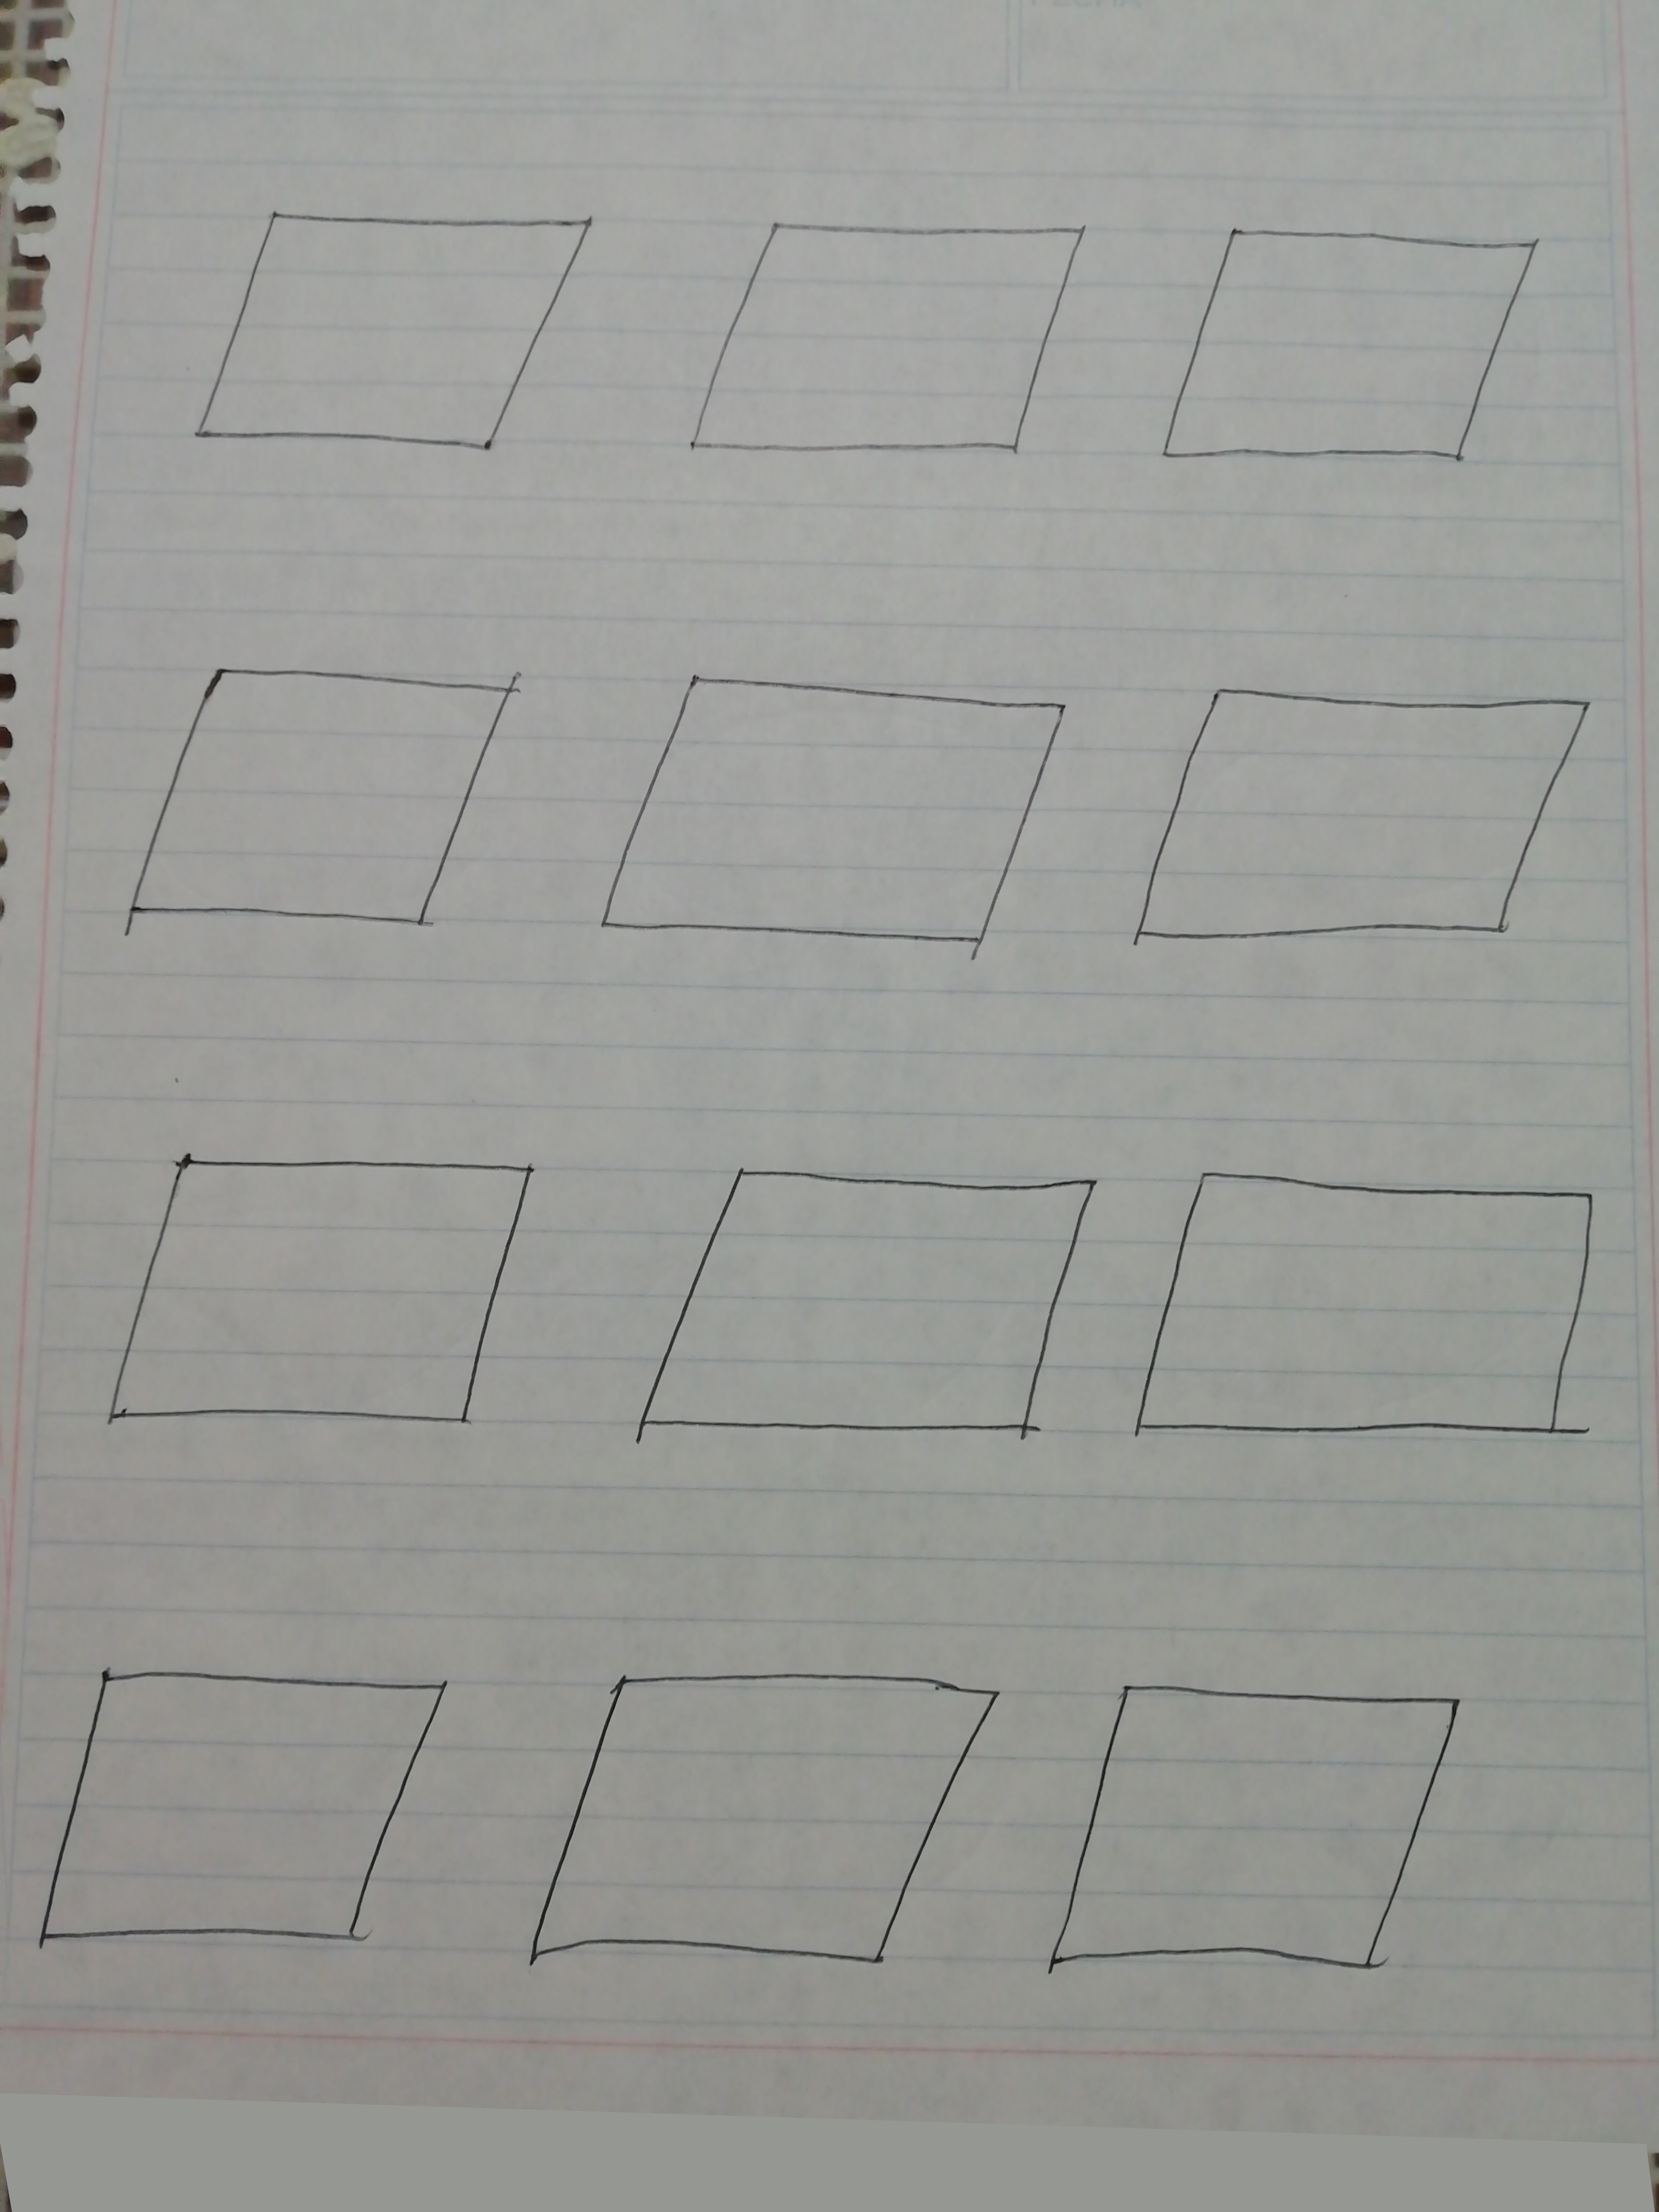scan: (1122, 1123, 1633, 1527), (619, 1130, 1119, 1541), (502, 1641, 1016, 2024), (580, 631, 1082, 1021), (71, 624, 544, 1010), (51, 1123, 561, 1479), (16, 1620, 469, 2017), (1026, 1655, 1500, 2031), (1101, 660, 1607, 1003), (160, 167, 615, 514), (667, 181, 1108, 514), (1136, 195, 1561, 514)
